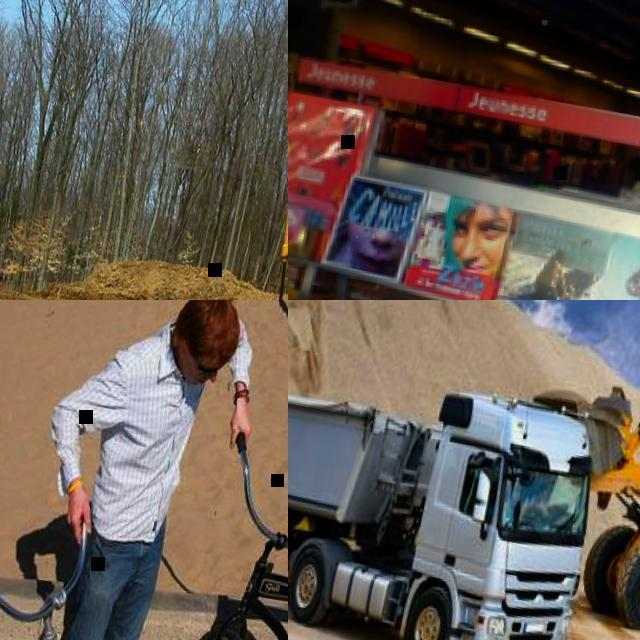no_helmet: (168, 300, 249, 368)
